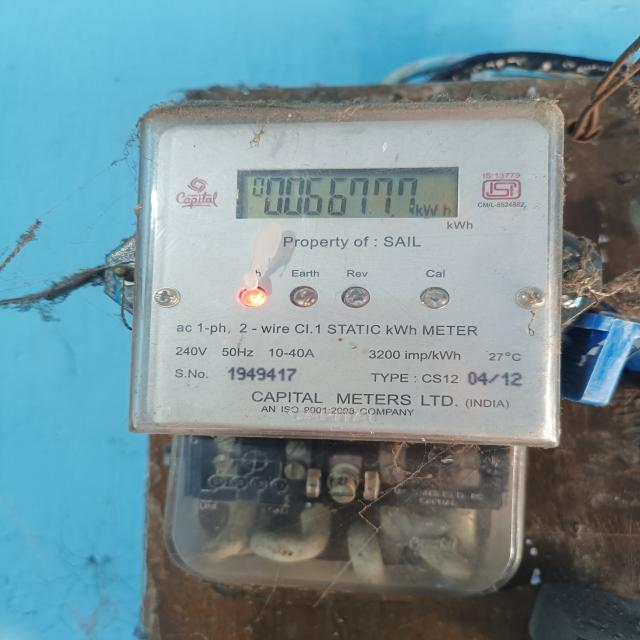display: (234, 168, 460, 222)
